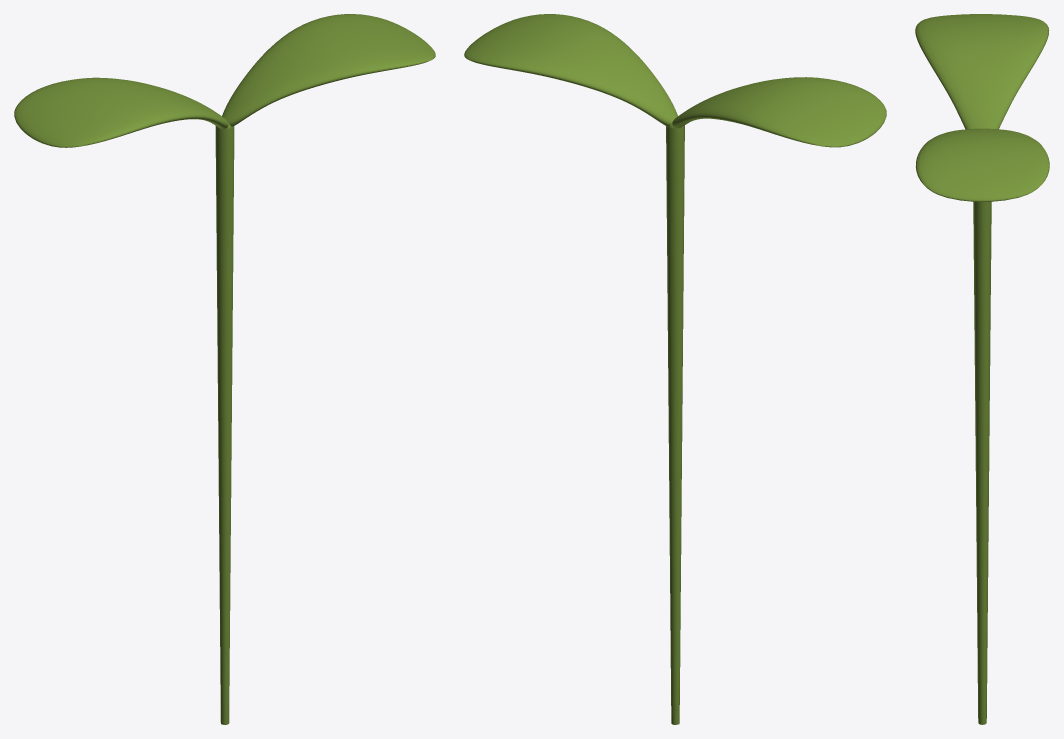
File: Hennepplant_AR_005.gltf
3 views of the same model, side by side, from view 1: azimuth 30°, elevation 25°; view 2: azimuth 150°, elevation 25°; view 3: azimuth 270°, elevation 25° (orthographic). The views are drawn at different scales.
Parts seen in each view (by area): view 1: Plane.001, Plane, Cylinder; view 2: Plane.001, Plane, Cylinder; view 3: Plane, Plane.001, Cylinder.
Part boxes in pixels (box(x1,y1,x2,y2)): Plane.001: box(222, 14, 435, 126); Plane: box(14, 77, 228, 147); Cylinder: box(215, 123, 234, 724); Plane.001: box(464, 14, 677, 126); Plane: box(672, 77, 886, 147); Cylinder: box(666, 122, 684, 724); Plane: box(915, 14, 1049, 129); Plane.001: box(915, 128, 1049, 201); Cylinder: box(973, 201, 991, 724).
Bounding box in the file's own units: 2.76 × 4.38 × 0.8435.
